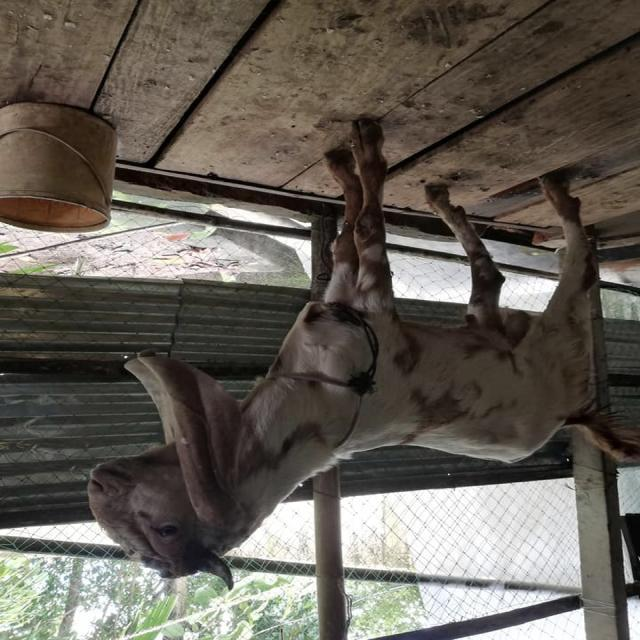Goat: (86, 119, 640, 592)
